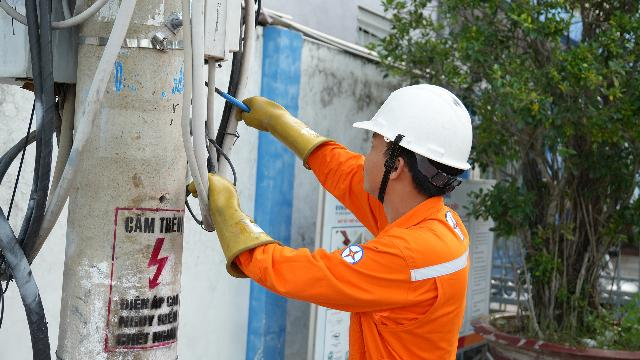gloves: (174, 160, 281, 272), (230, 86, 334, 168)
helmet: (344, 70, 488, 176)
